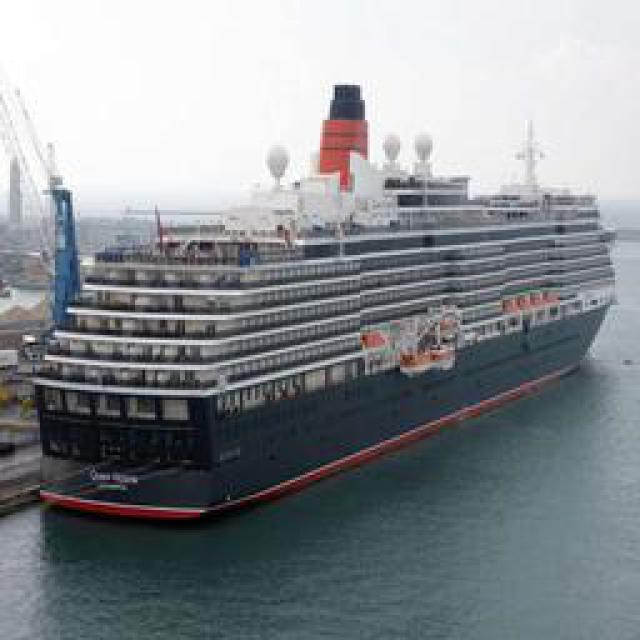Ship: (29, 108, 619, 526)
